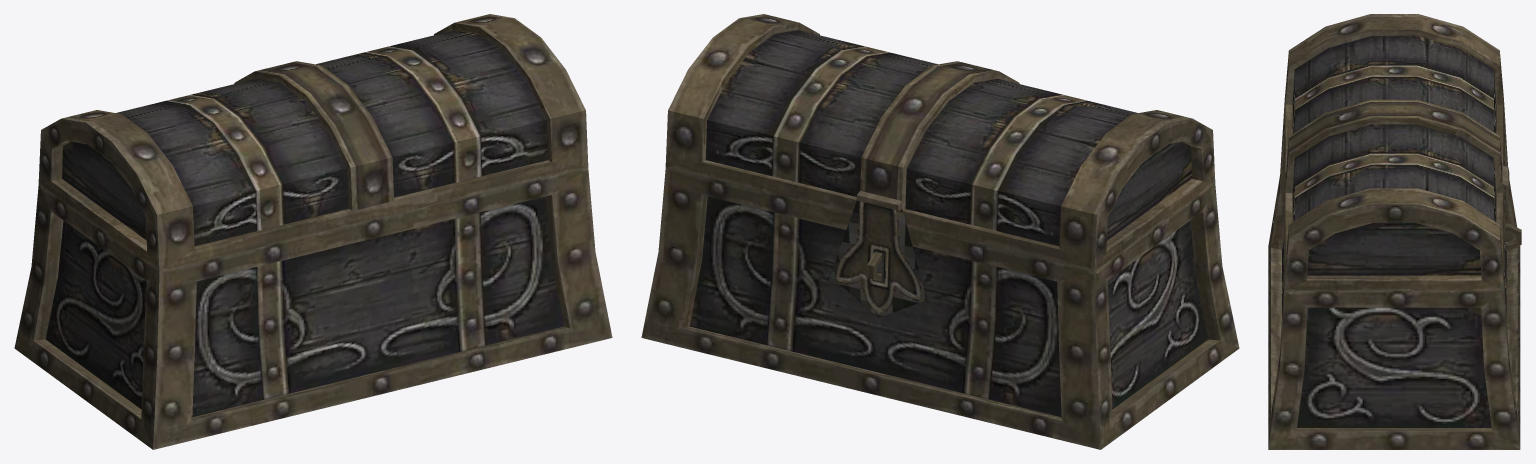
File: eso_gu1_Chest3-transformed.glb
The picture shows the model from 3 angles, left to right: view 1: azimuth 30°, elevation 25°; view 2: azimuth 150°, elevation 25°; view 3: azimuth 270°, elevation 25°; orthographic projection. The views are drawn at different scales.
Visible parts, largest first — view 1: default; view 2: default; view 3: default.
Part boxes in pixels (x1,y1,x2,y2): default: (14,14,612,449); default: (641,14,1239,449); default: (1268,14,1521,449).
Bounding box in the file's own units: 1.48 × 0.8103 × 0.7781.
1 material, 1 textured.
